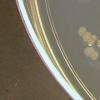yellow: (76, 24, 86, 36), (88, 49, 97, 61), (84, 45, 93, 55), (90, 32, 97, 40), (88, 42, 96, 49), (83, 32, 89, 41)
